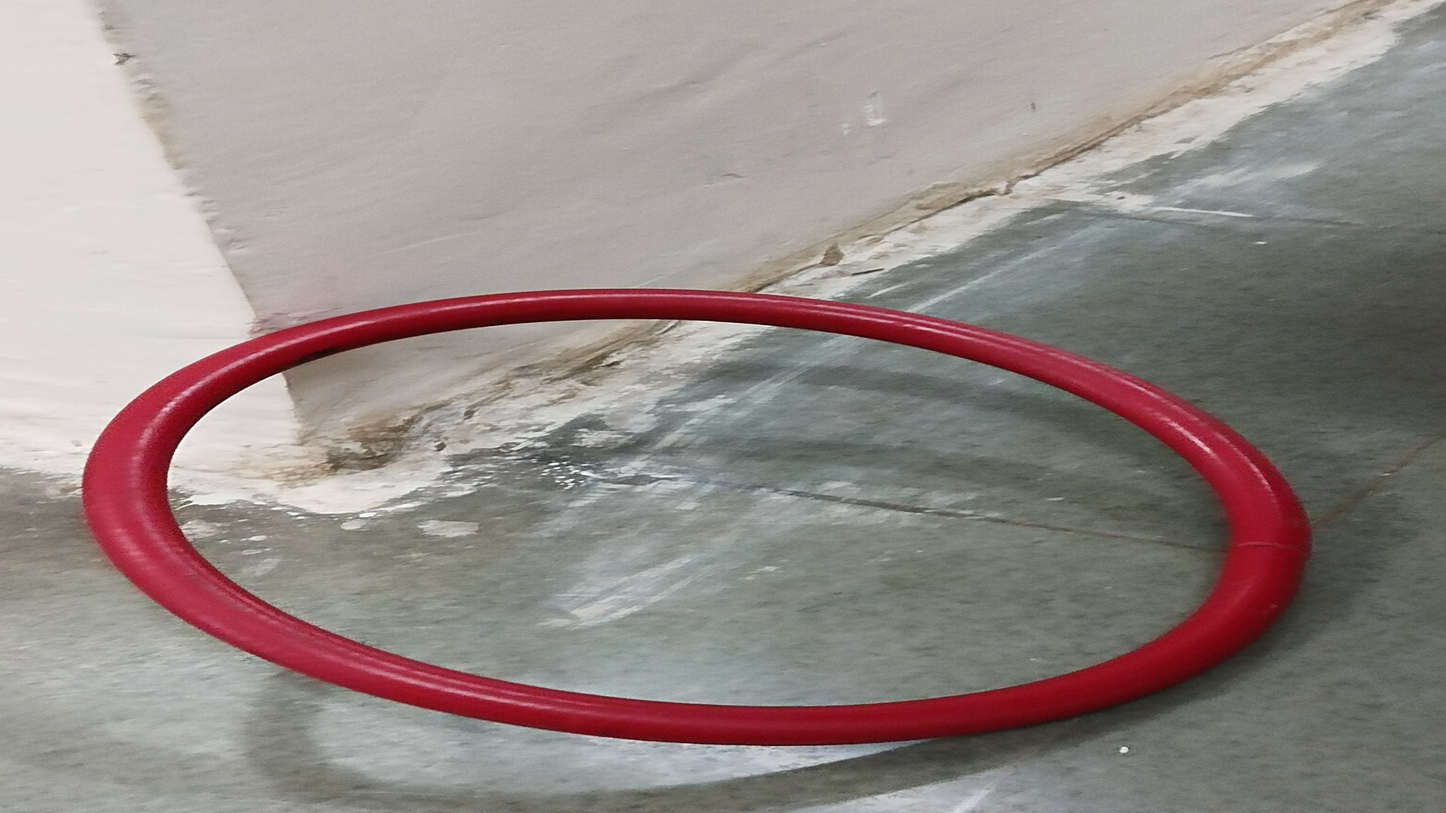Red ring: (81, 289, 1308, 750)
